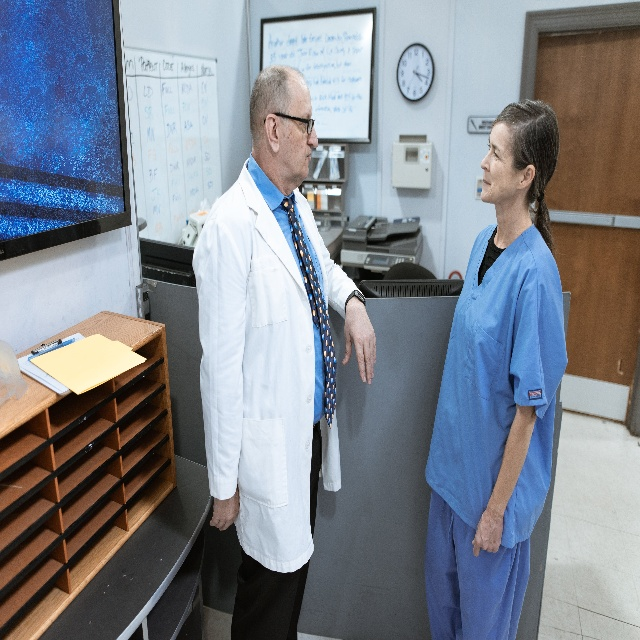Gafas: (263, 111, 315, 134)
Sin_guantes: (341, 301, 377, 385), (470, 507, 503, 559), (209, 484, 241, 532)
